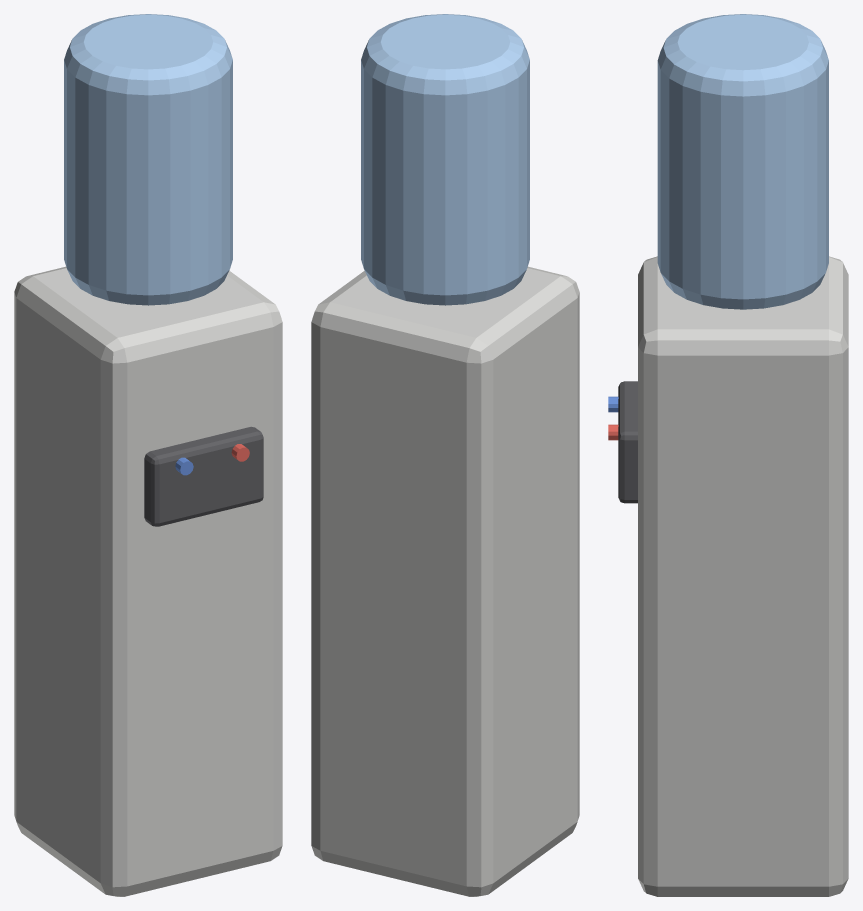
Rendered from water_cooler.fbx.
3 renders of one model, left to right at view 1: azimuth 30°, elevation 25°; view 2: azimuth 150°, elevation 25°; view 3: azimuth 270°, elevation 25°, orthographic.
Visible parts, largest first — view 1: water_cooler; view 2: water_cooler; view 3: water_cooler.
Boxes of the visible parts, x1,y1,x2,y2 form: water_cooler: [14, 14, 282, 896]; water_cooler: [311, 14, 579, 896]; water_cooler: [608, 14, 848, 896].
Bounding box in the file's own units: 0.32 × 1.37 × 0.365.
